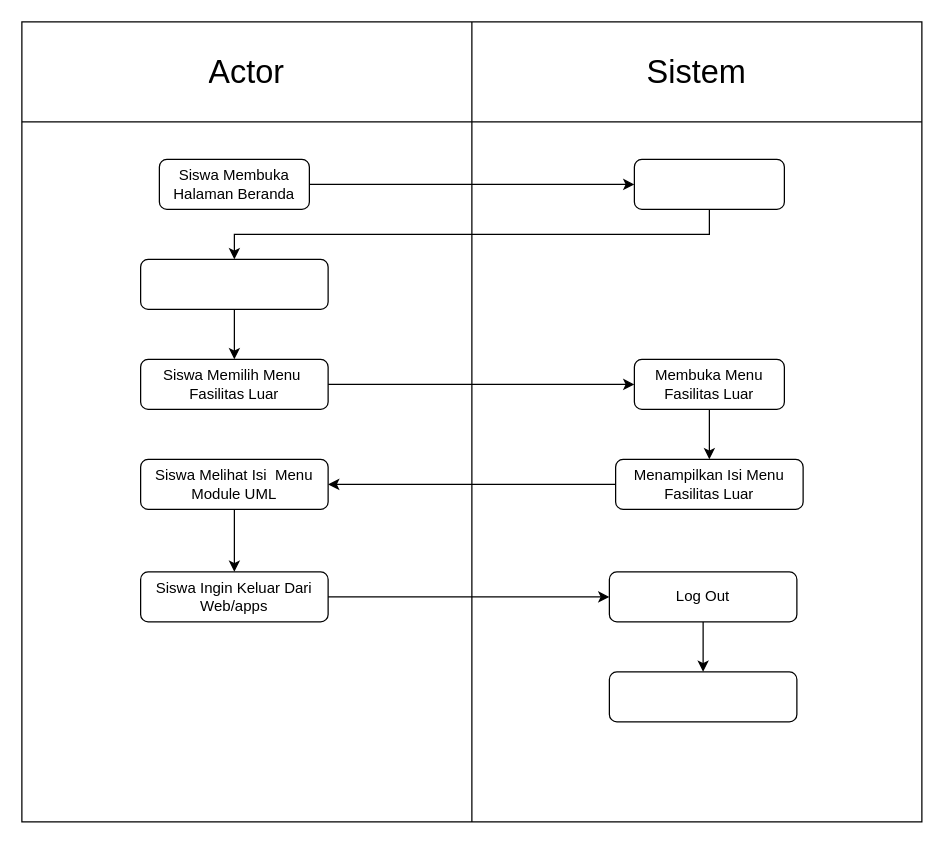
Some shapes in this 944 by 844 pixel diagram are drawn without their labels. Here are the shapes that lost their labels. From the top down, the centre of each, then its label:
At (x=708, y=183): "Menampilkan Dasboard".
At (x=233, y=283): "Siswa Melihat Dasboard".
At (x=702, y=696): "Kembali Ke halaman Login Siswa".
